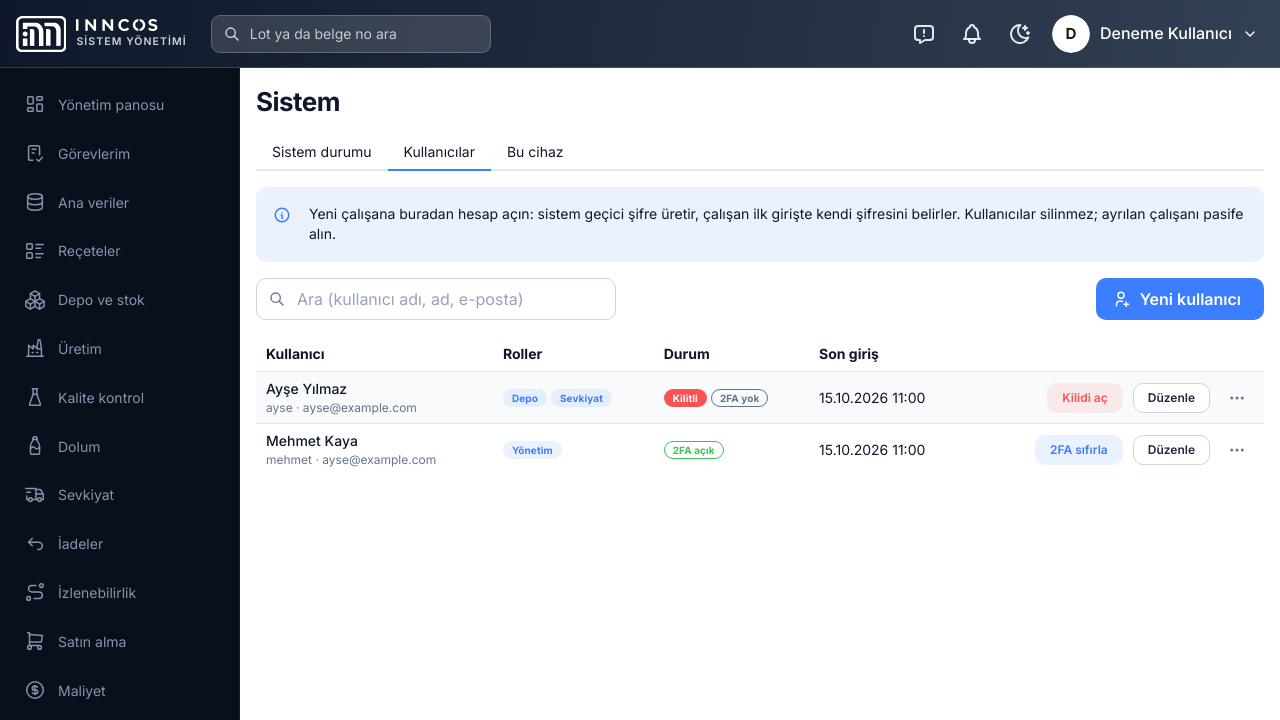
Test: Kullanıcılar › şifre sıfırlama onaylanınca yeni geçici şifre gösterilir
Click the button named "Ayşe Yılmaz: diğer işlemler" at coordinates (1237, 398), box x1=1220 y1=381 x2=1254 y2=415
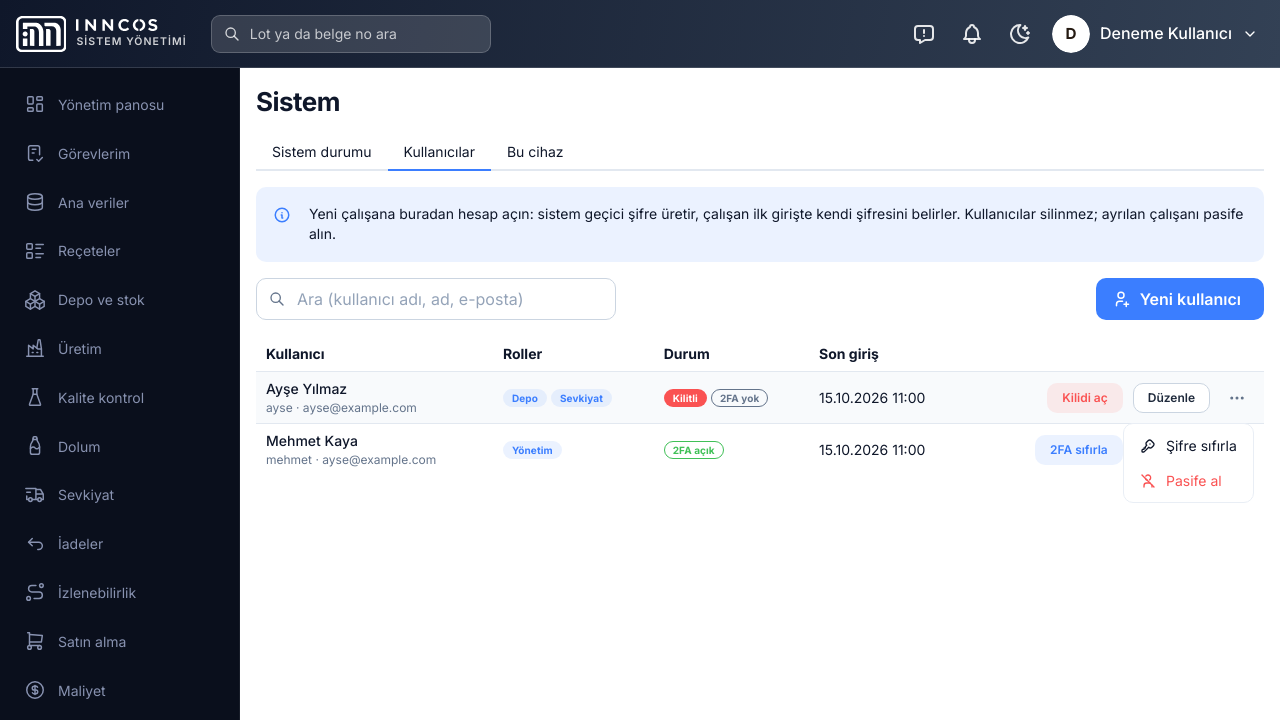
Click the menu item "Şifre sıfırla" at coordinates (1189, 445), box x1=1128 y1=428 x2=1249 y2=463
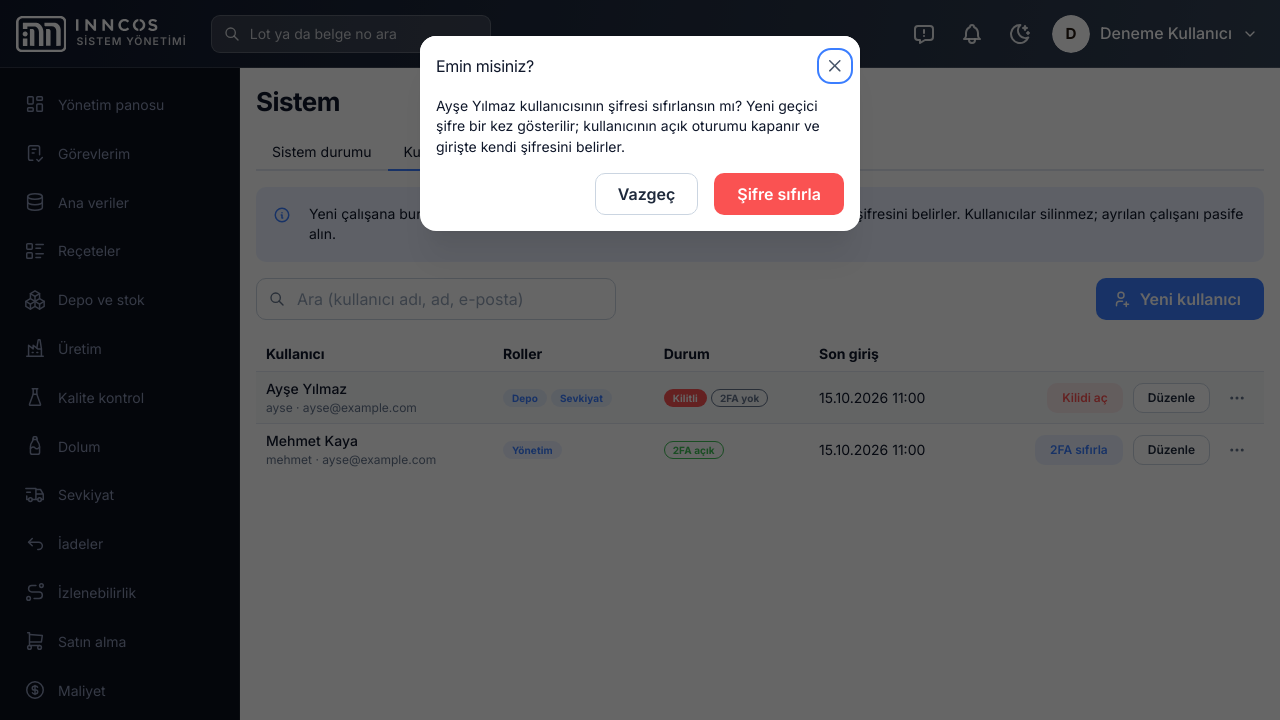
expect the text "açık oturumu kapanır" is shown: met, box x1=436 y1=97 x2=820 y2=155
Click the button "Şifre sıfırla" at coordinates (779, 194), box x1=714 y1=173 x2=844 y2=215
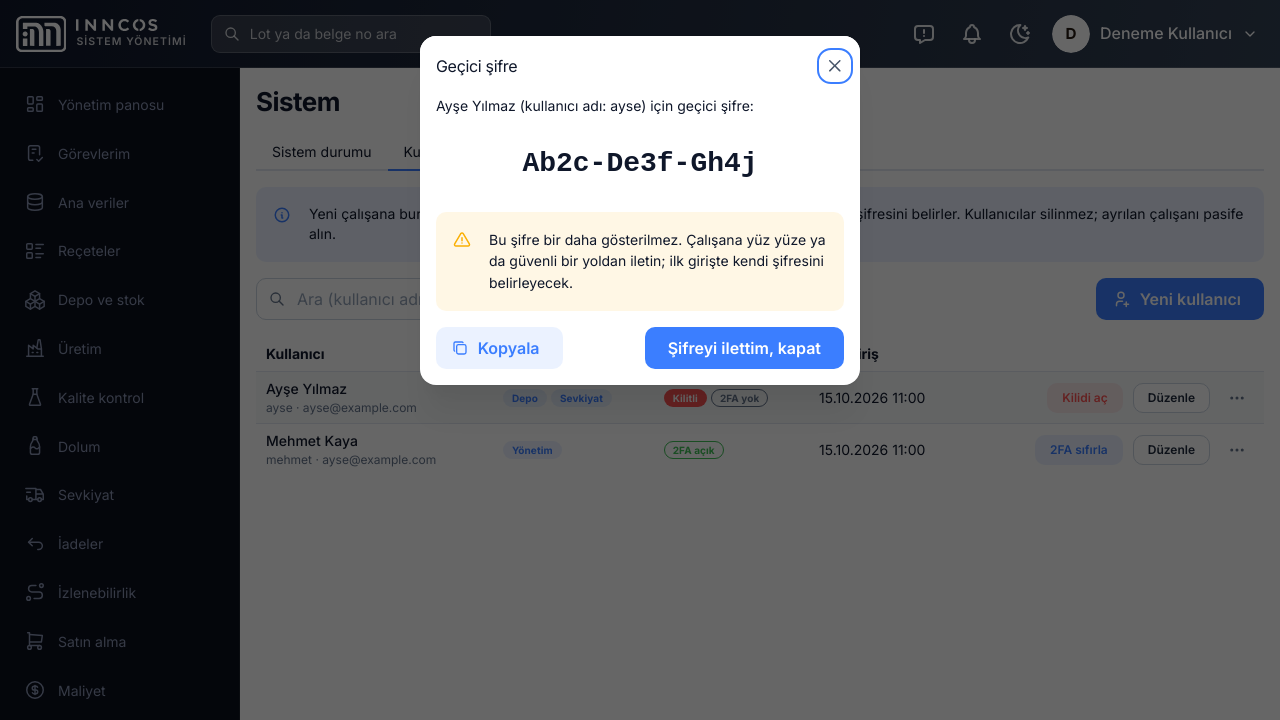
expect the text with test id "temporary-password" reads "Ab2c-De3f-Gh4j": met, box x1=522 y1=148 x2=758 y2=179
